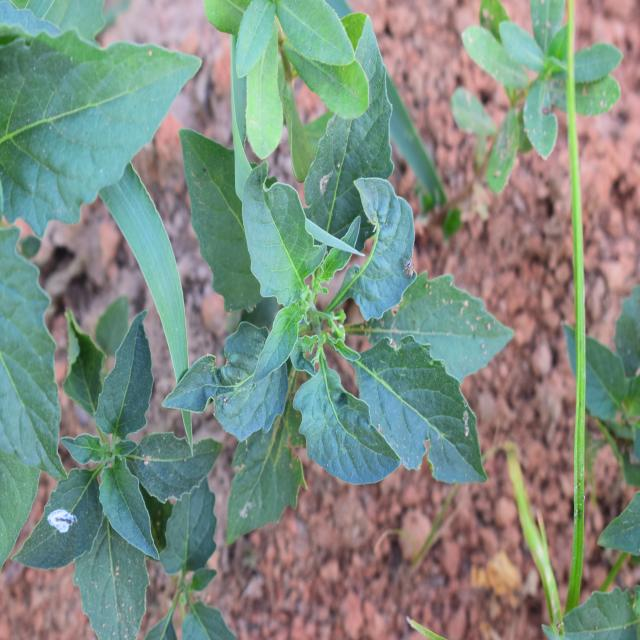Black_nightshade: (200, 121, 519, 520), (36, 317, 220, 614)
